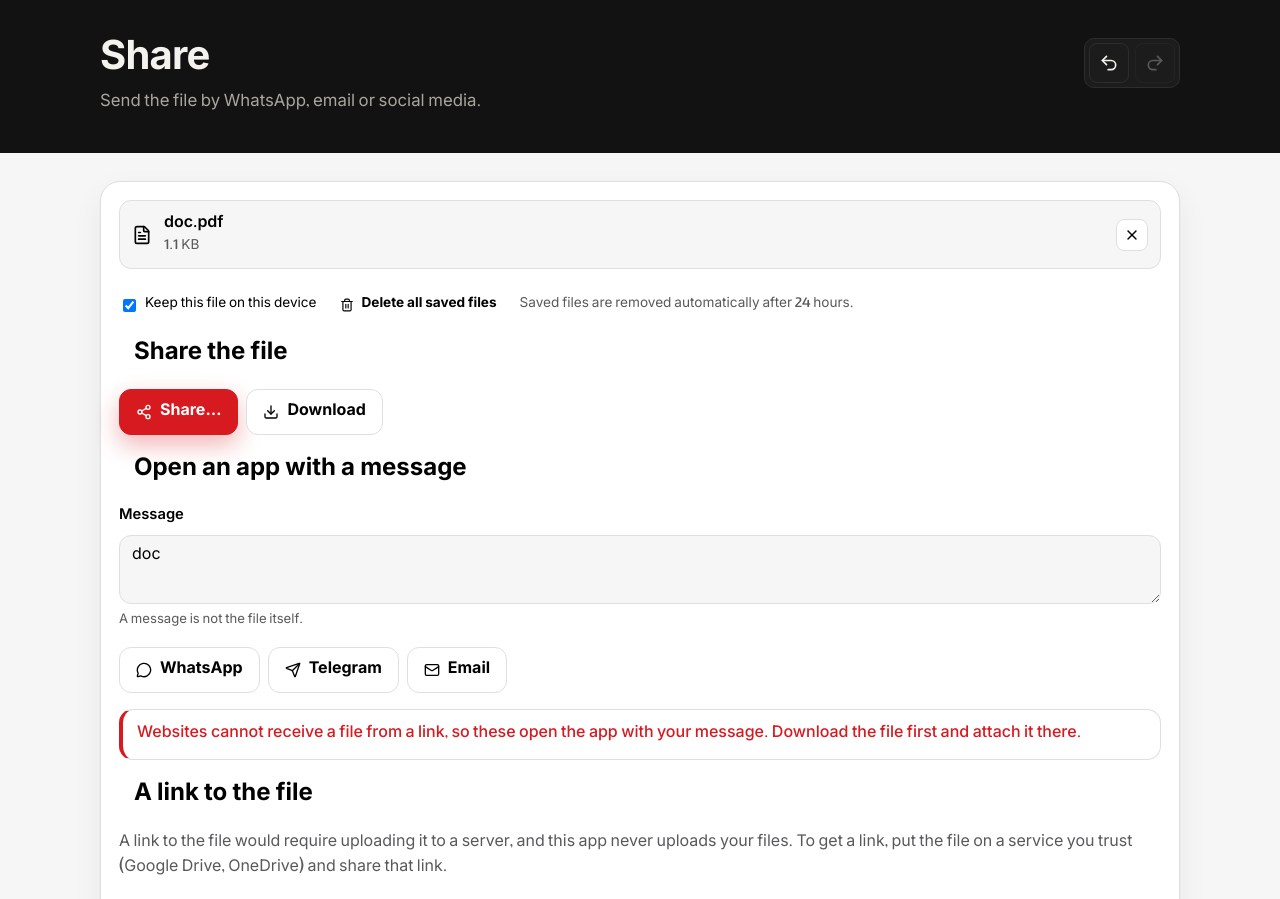
it: Share › shares the file through the system sheet when the browser can
Earlier steps of the test are not shown.
Click the button "Share…" at [179, 412], box [119, 389, 238, 435]
(page scrolled)
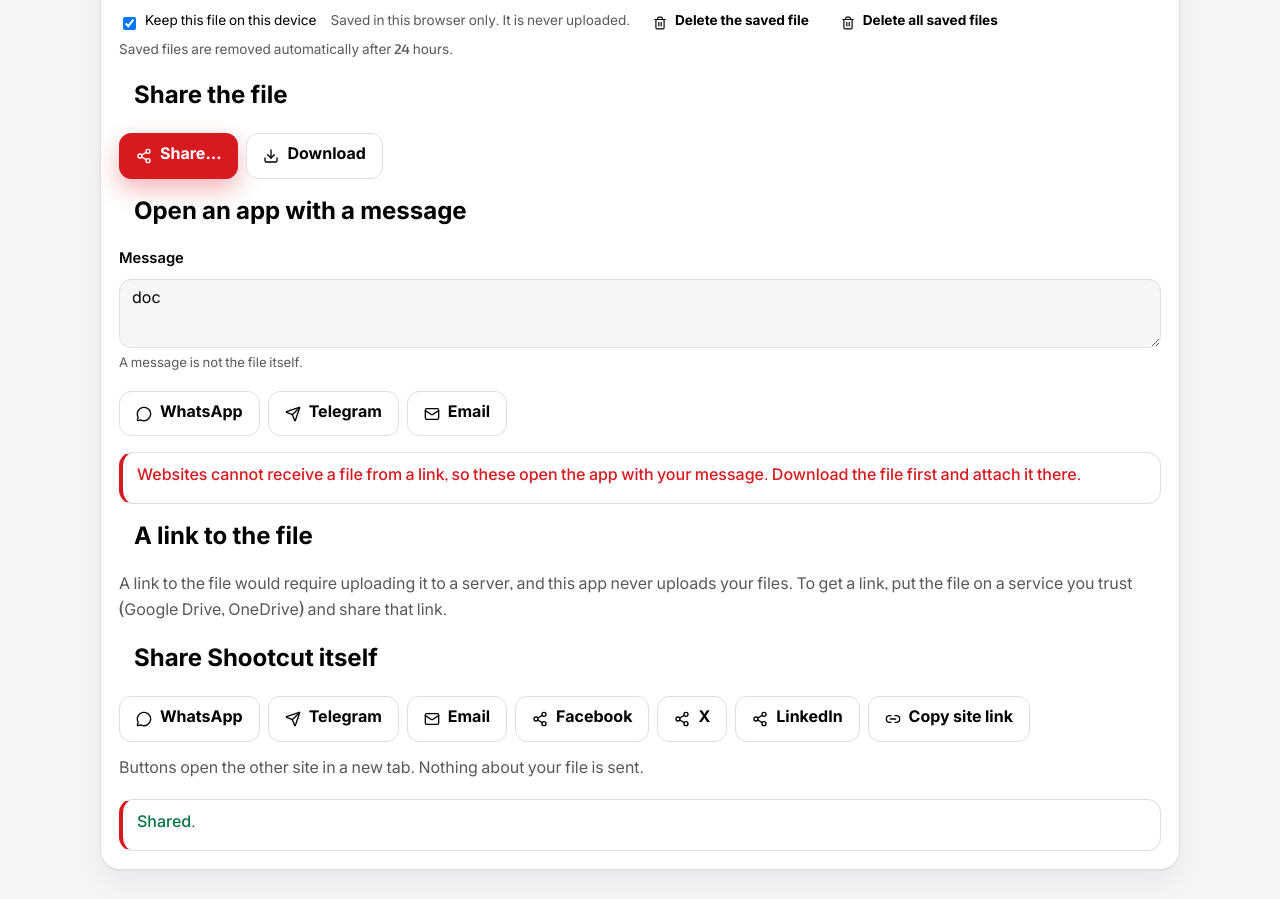
expect the text "Shared." is shown: met, box [119, 799, 1161, 851]
